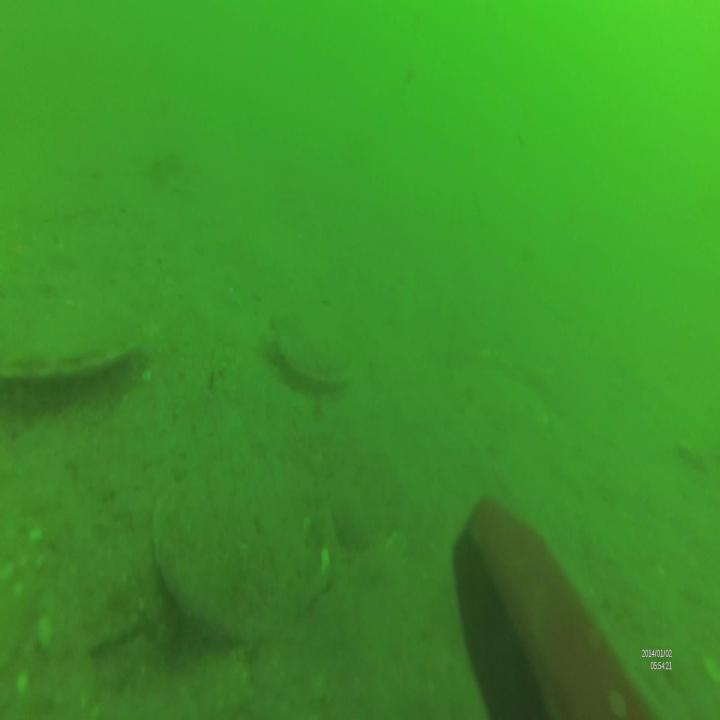scallop: (152, 452, 330, 657), (1, 258, 148, 392), (268, 305, 352, 392)
